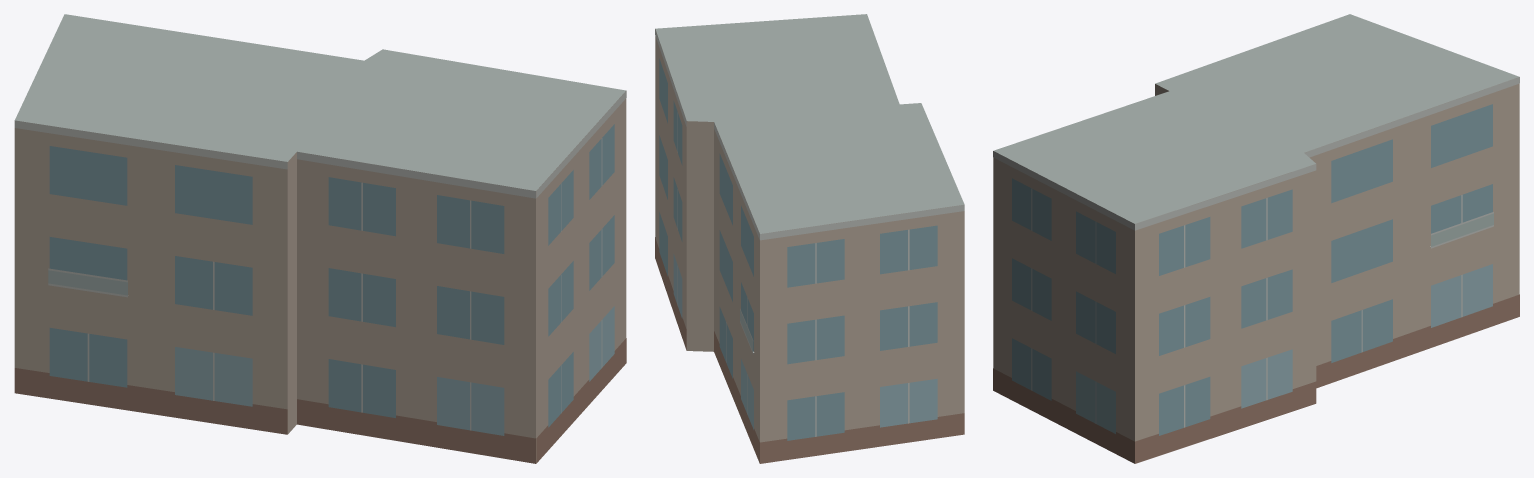
File: survey-upis-32605308.glb
The picture shows the model from 3 angles, left to right: view 1: azimuth 30°, elevation 25°; view 2: azimuth 150°, elevation 25°; view 3: azimuth 270°, elevation 25°; orthographic projection. The views are drawn at different scales.
Visible parts, largest first — view 1: survey-upis-32605308.tmp; view 2: survey-upis-32605308.tmp; view 3: survey-upis-32605308.tmp.
Boxes of the visible parts, left/top/right/bottom form: survey-upis-32605308.tmp: left=14, top=14, right=626, bottom=463; survey-upis-32605308.tmp: left=655, top=14, right=964, bottom=463; survey-upis-32605308.tmp: left=993, top=14, right=1519, bottom=463.
Bounding box in the file's own units: 16.53 × 8.8 × 17.51.
